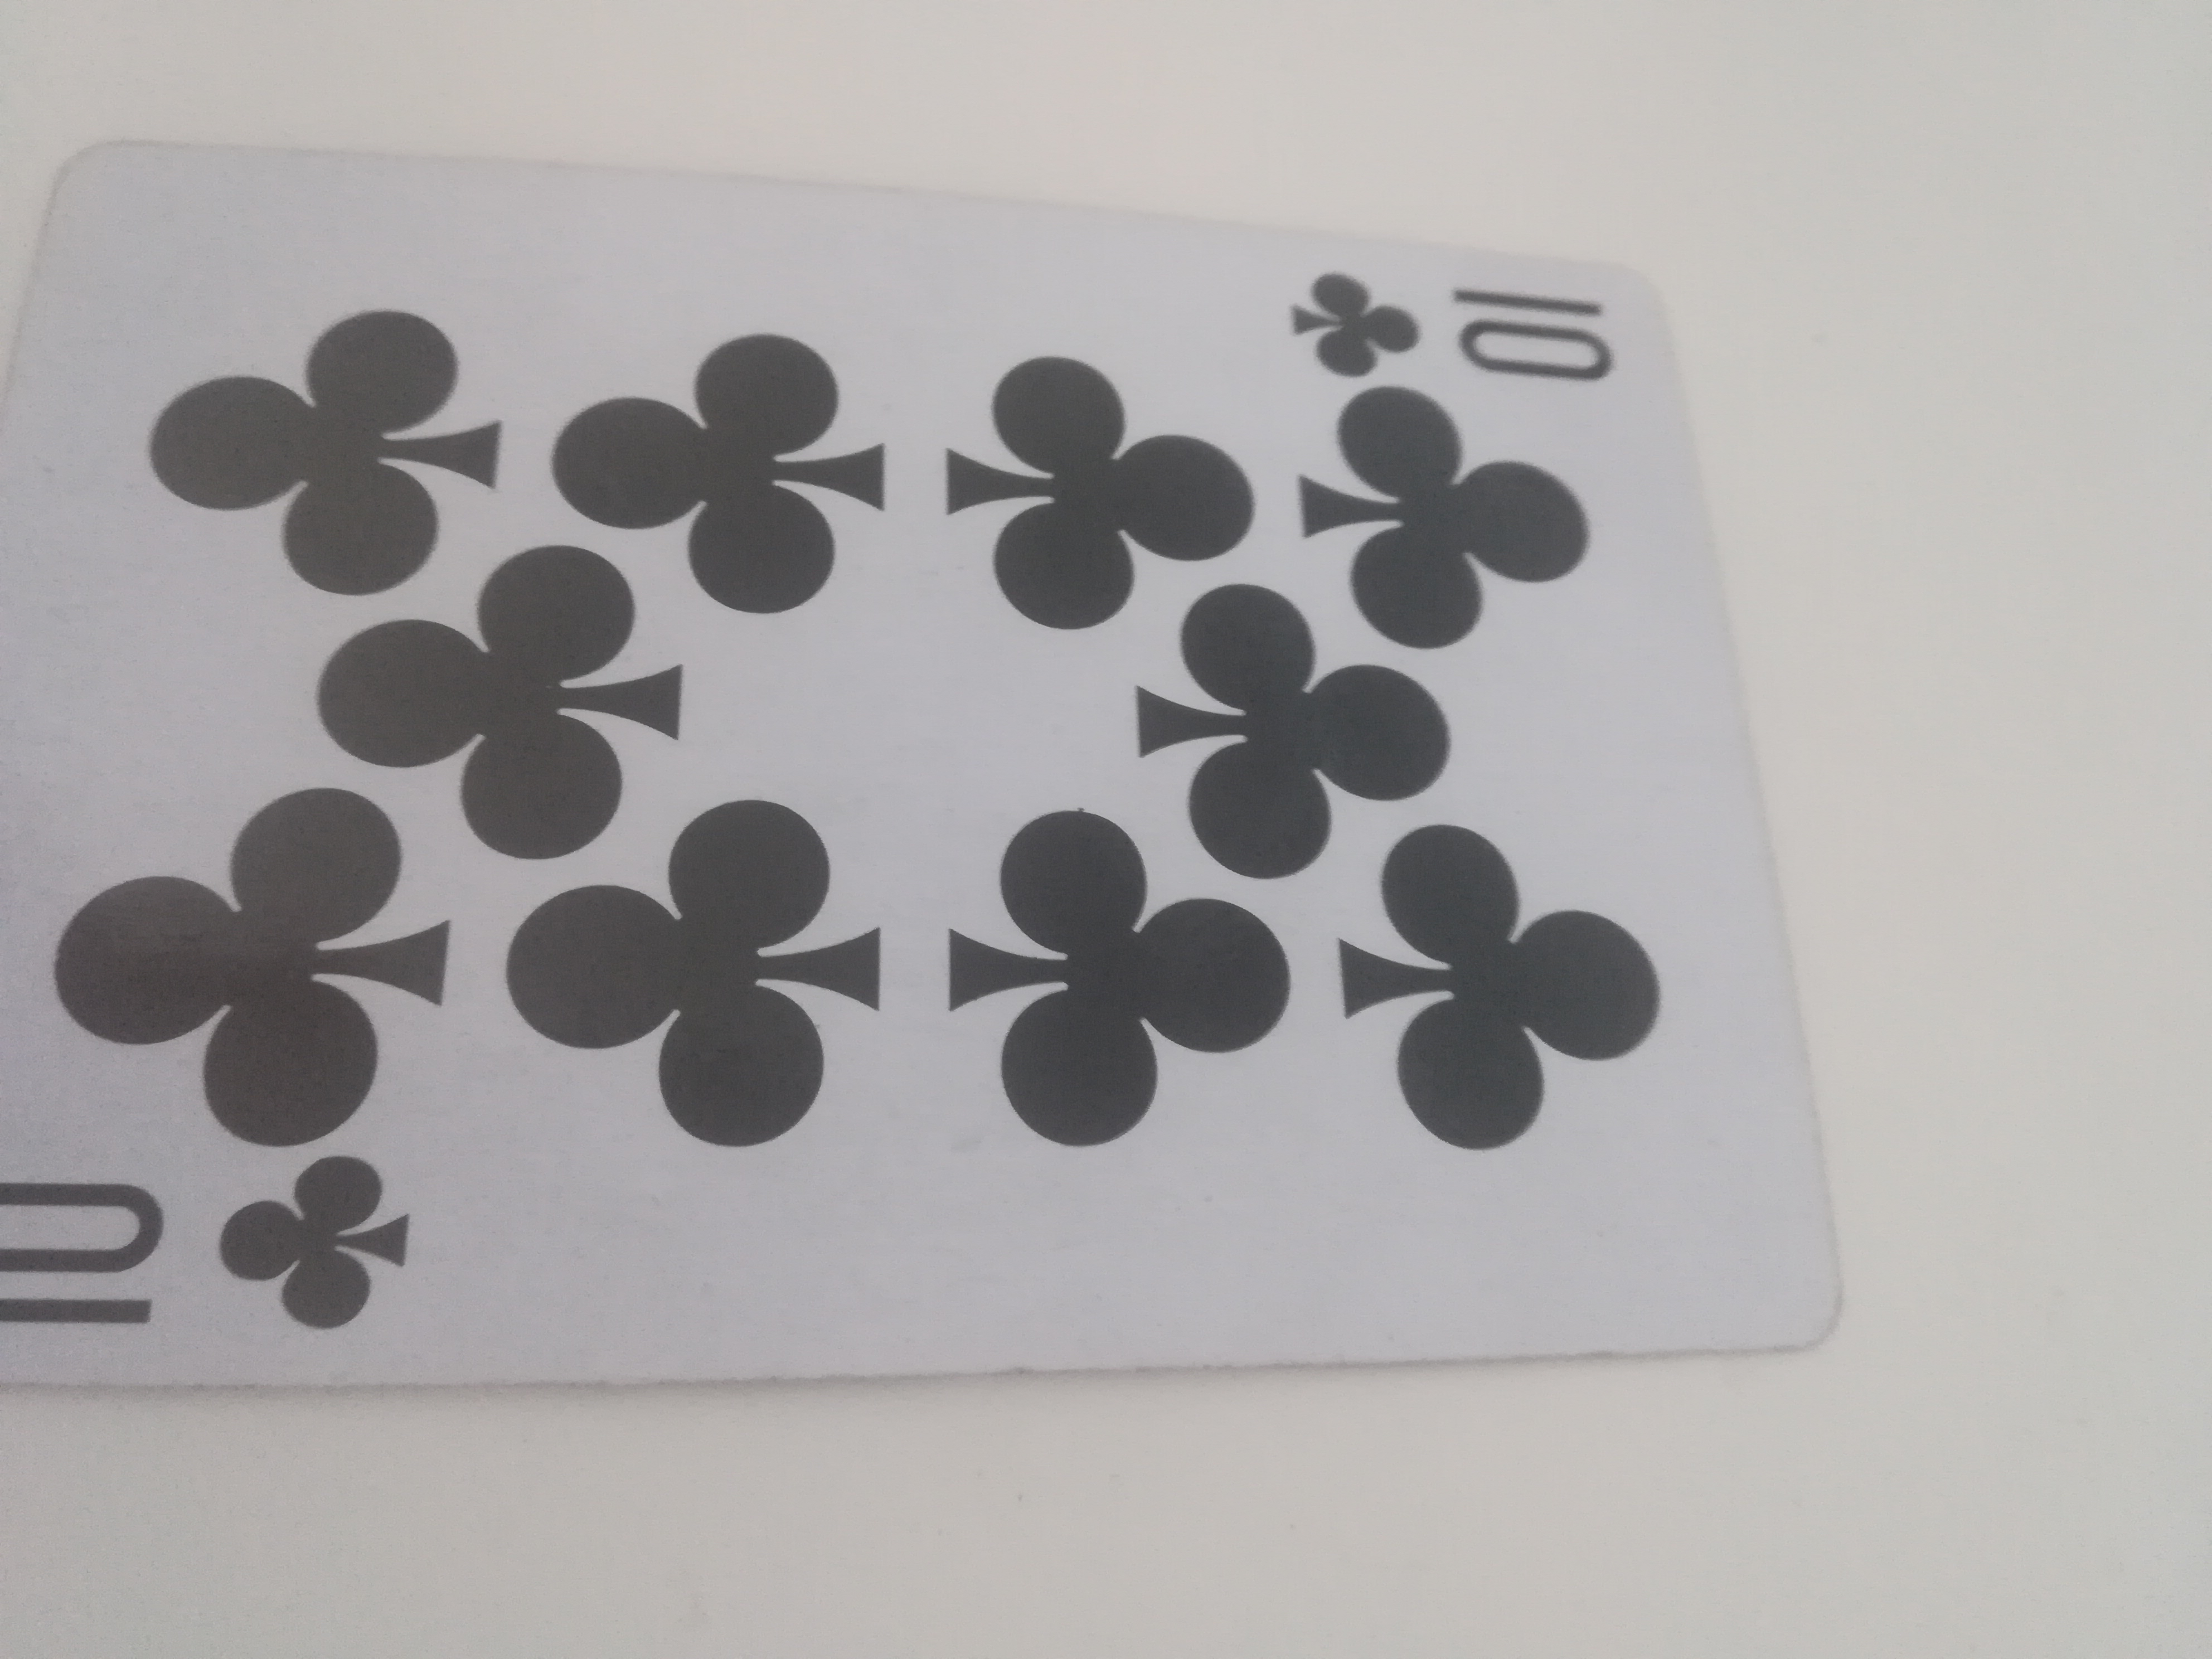10C: (0, 152, 1893, 1429)
